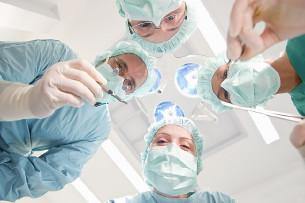OK: (145, 131, 208, 194), (214, 61, 282, 108), (124, 1, 188, 49), (93, 55, 149, 103)
